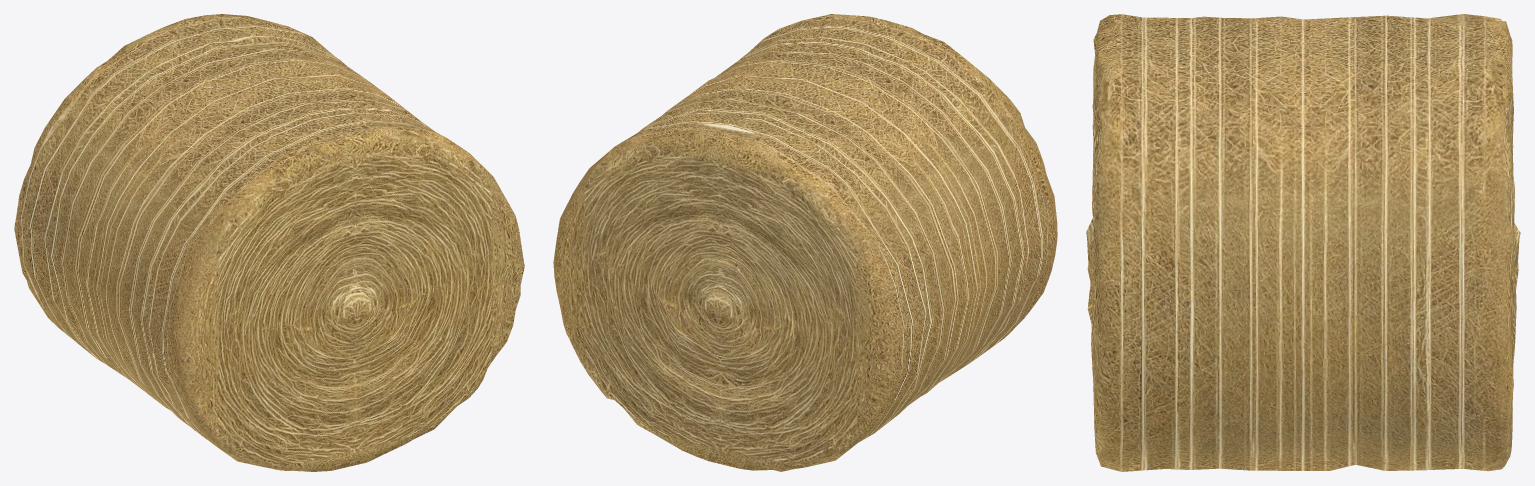
File: bale.glb
The picture shows the model from 3 angles, left to right: view 1: azimuth 30°, elevation 25°; view 2: azimuth 150°, elevation 25°; view 3: azimuth 270°, elevation 25°; orthographic projection. The views are drawn at different scales.
Parts seen in each view (by area): view 1: Mesh1.0; view 2: Mesh1.0; view 3: Mesh1.0.
Boxes of the visible parts, x1,y1,x2,y2 form: Mesh1.0: (14, 14, 524, 471); Mesh1.0: (553, 14, 1057, 471); Mesh1.0: (1086, 14, 1520, 471).
Bounding box in the file's own units: 1.89 × 1.73 × 1.68.
Materials: 1 (1 with a texture image).
